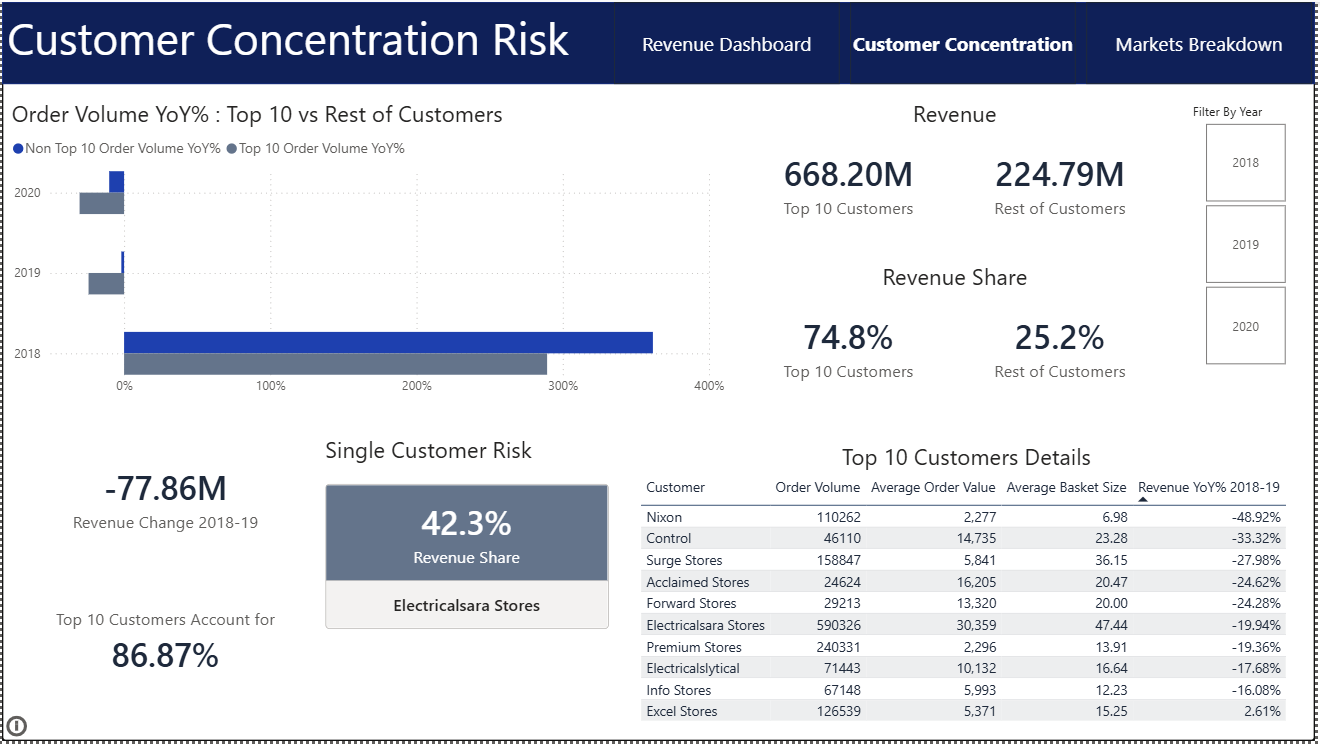

This screenshot's page, from the dashboard's own definition file:
{"tool":"powerbi","page":{"name":"Customer Concentration","canvas":[1280,720],"ordinal":1},"visuals":[{"type":"group","id":"g1","title":"Group 1","box":[0,0,1279.5,80.5],"z":0},{"type":"shape","box":[0,0,1279.5,80.3],"z":0,"group":"g1"},{"type":"cardVisual","fields":{"Data":["_Measures.Top 10 Decline Contribution 2019"]},"box":[9.7,558.4,301.3,128.2],"z":0,"group":"g3"},{"type":"textbox","box":[0,0,697.9,80.5],"z":1000,"group":"g1"},{"type":"cardVisual","title":"Revenue","fields":{"Data":["_Measures.Top 10 Revenue","_Measures.Non Top 10 Revenue"]},"box":[708.6,93.9,439.1,139.4],"z":1000,"group":"g2"},{"type":"slicer","fields":{"Values":["sales date.year"]},"box":[1147.8,93.9,127.2,266.5],"z":1000},{"type":"cardVisual","fields":{"Data":["_Measures.Revenue Decline"]},"box":[9.1,420.9,301.3,124.8],"z":1000,"group":"g3"},{"type":"clusteredBarChart","title":"Order Volume YoY% : Top 10 vs Rest of Customers","fields":{"Y":["_Measures.Non Top 10 Order Volume YoY%","_Measures.Top 10 Order Volume YoY%"],"Category":["sales date.year"]},"box":[4.5,93.9,704.1,298.3],"z":2000},{"type":"cardVisual","title":"Revenue Share","fields":{"Data":["_Measures.Top 10 Revenue Share%","_Measures.Non Top 10 Revenue Share%"]},"box":[708.6,252.8,439.1,139.4],"z":2000,"group":"g2"},{"type":"group","id":"g2","title":"Group 2","box":[708.6,93.9,439.1,298.3],"z":3000},{"type":"group","id":"g3","title":"Group 3","box":[9.1,420.9,301.3,266.5],"z":4000},{"type":"cardVisual","title":"Single Customer Risk","fields":{"Data":["_Measures.Revenue Share%"],"Rows":["sales customers.customer_name"]},"box":[310.4,420.9,286.2,215],"z":5000},{"type":"pageNavigator","box":[596.6,0,682.9,80.3],"z":5003,"group":"g1"},{"type":"tableEx","title":"Top 10 Customers Details","fields":{"Values":["sales customers.customer_name","Sum(sales transactions_clean.sales_qty)1","Avg(sales transactions_clean.sales_amount)","Avg(sales transactions_clean.sales_qty)","_Measures.Revenue YoY% 2018-19"]},"box":[616.7,428.2,646,277.7],"z":6000},{"type":"actionButton","box":[0,691.5,310.3,28.5],"z":7000}]}

Visuals, with their boxes in screenshot pixels (x1, y1, x2, y2), scaled from the page's 1280x720 canvas onto the 1320x744 screenshot:
"Group 1" group: select_region(0, 0, 1319, 83)
shape: select_region(0, 0, 1319, 83)
cardVisual - _Measures.Top 10 Decline Contribution 2019: select_region(10, 577, 321, 709)
textbox: select_region(0, 0, 720, 83)
"Revenue" cardVisual: select_region(731, 97, 1184, 241)
slicer - sales date.year: select_region(1184, 97, 1315, 372)
cardVisual - _Measures.Revenue Decline: select_region(9, 435, 320, 564)
"Order Volume YoY% : Top 10 vs Rest of Customers" clusteredBarChart: select_region(5, 97, 731, 405)
"Revenue Share" cardVisual: select_region(731, 261, 1184, 405)
"Group 2" group: select_region(731, 97, 1184, 405)
"Group 3" group: select_region(9, 435, 320, 710)
"Single Customer Risk" cardVisual: select_region(320, 435, 615, 657)
pageNavigator: select_region(615, 0, 1319, 83)
"Top 10 Customers Details" tableEx: select_region(636, 442, 1302, 729)
actionButton: select_region(0, 715, 320, 743)
